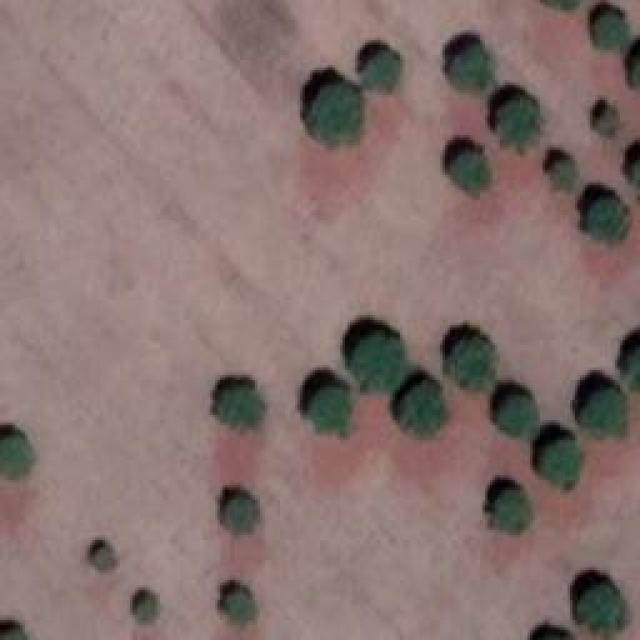Tree: (310, 83, 363, 148), (353, 335, 403, 390), (575, 585, 628, 633), (447, 340, 495, 393), (400, 380, 445, 435), (492, 98, 540, 148), (308, 385, 353, 435), (583, 390, 626, 438), (450, 45, 490, 93), (540, 440, 580, 485), (585, 198, 625, 241), (360, 53, 400, 96), (215, 387, 260, 425), (492, 490, 530, 533), (0, 433, 35, 476), (453, 150, 486, 193), (497, 398, 535, 433), (223, 498, 258, 533), (595, 15, 630, 48), (622, 343, 640, 398), (228, 592, 253, 620), (550, 160, 575, 188), (138, 598, 158, 621), (95, 548, 113, 568), (597, 112, 615, 130)
